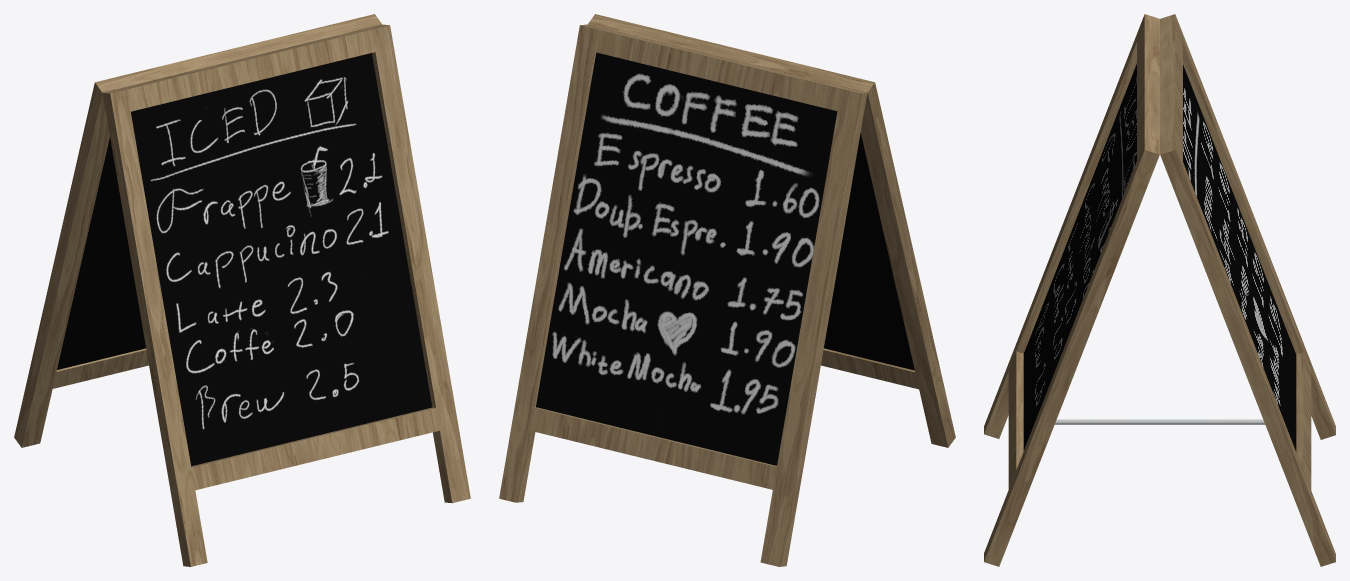
Rendered from board.glb.
3 views of the same model, side by side, from view 1: azimuth 30°, elevation 25°; view 2: azimuth 150°, elevation 25°; view 3: azimuth 270°, elevation 25° (orthographic).
Parts seen in each view (by area): view 1: menu board_0; view 2: menu board_0; view 3: menu board_0.
Boxes of the visible parts, x1,y1,x2,y2 form: menu board_0: (14,14,470,566); menu board_0: (499,14,955,566); menu board_0: (984,14,1335,566).
Size of the model in its own units: 0.6 by 0.8586 by 0.6566.
Materials: 1 (1 with a texture image).
